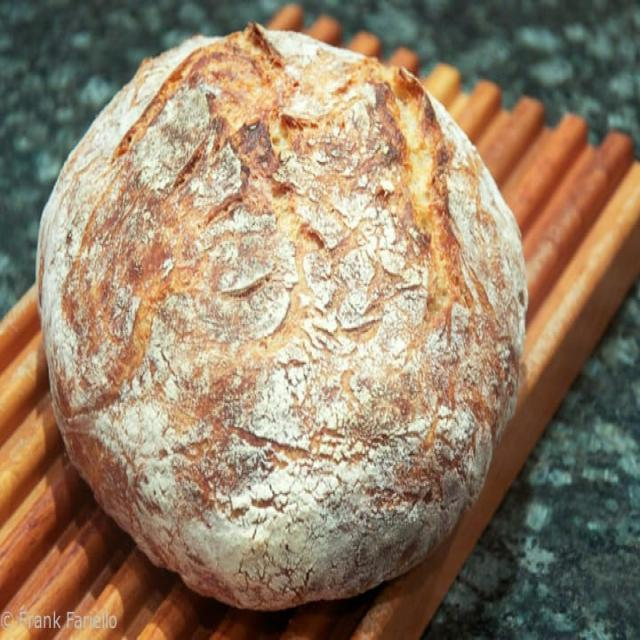Maltese-Bread: (36, 25, 527, 609)
